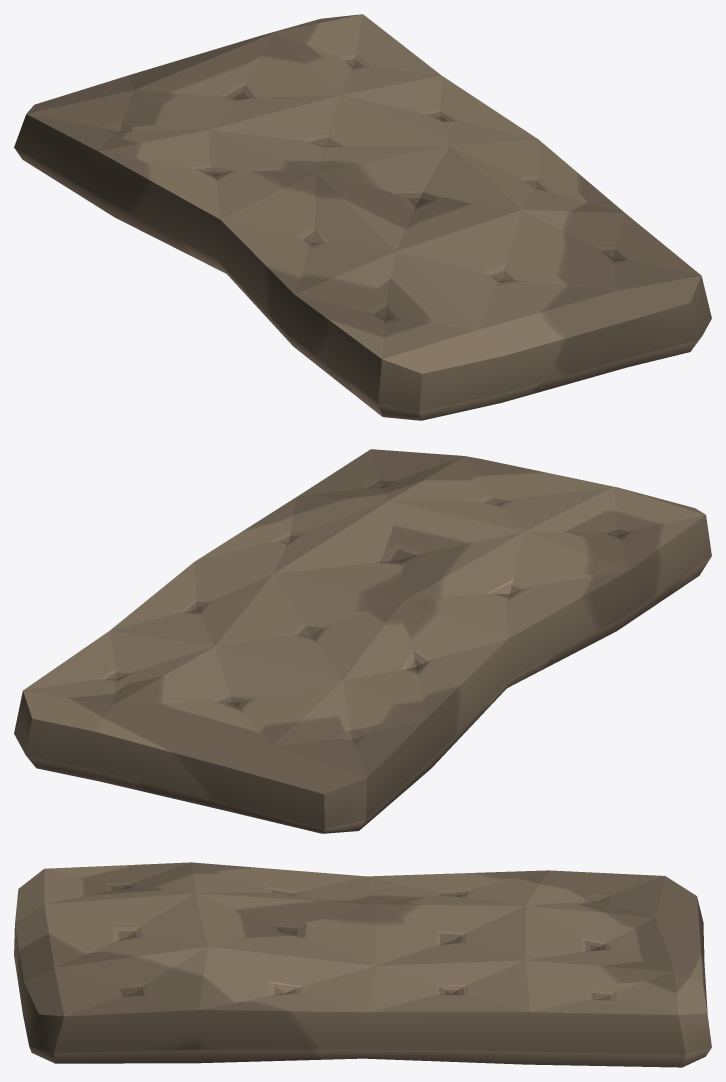
The model's file is SM_Prop_Old_Mattress_01.fbx.
3 views of the same model, one above another, from view 1: azimuth 30°, elevation 25°; view 2: azimuth 150°, elevation 25°; view 3: azimuth 270°, elevation 25° (orthographic). The views are drawn at different scales.
Parts seen in each view (by area): view 1: SM_Prop_Old_Mattress_01; view 2: SM_Prop_Old_Mattress_01; view 3: SM_Prop_Old_Mattress_01.
Boxes of the visible parts, x1,y1,x2,y2 form: SM_Prop_Old_Mattress_01: (14, 14, 711, 420); SM_Prop_Old_Mattress_01: (14, 449, 711, 833); SM_Prop_Old_Mattress_01: (14, 862, 711, 1067).
Bounding box in the file's own units: 106 × 24.63 × 205.
